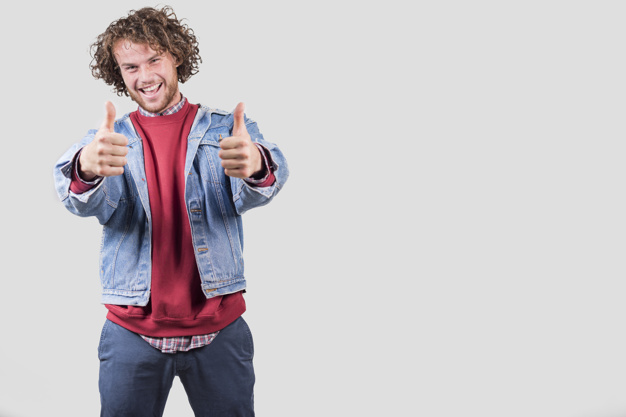thumbsup: (93, 101, 128, 177), (219, 102, 253, 178)
